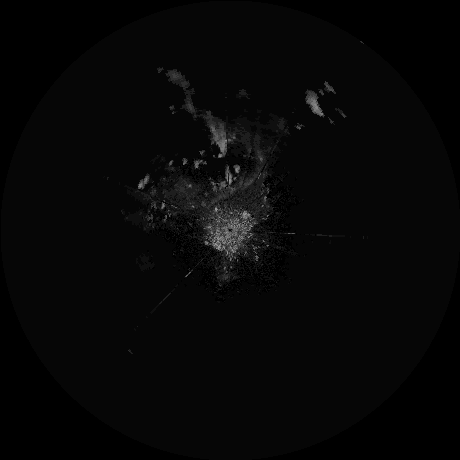frontgust: (209, 174, 257, 206)
